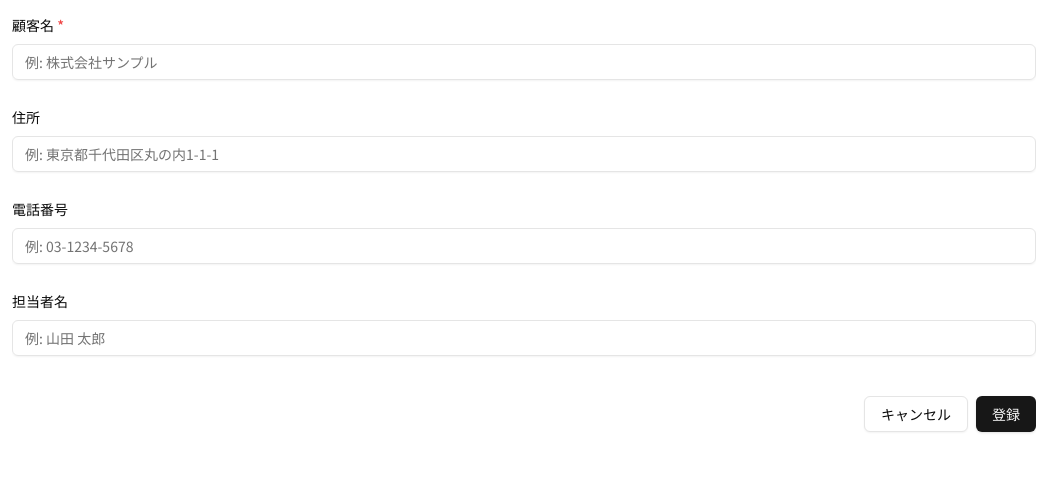
Test case: CustomerForm › validation › should show error for invalid phone format
The image size is (1048, 477).
Step 1. Type "テスト会社" into the field labelled "顧客名 *" → coordinates (524, 62), box top-left (12, 44), bottom-right (1036, 80)
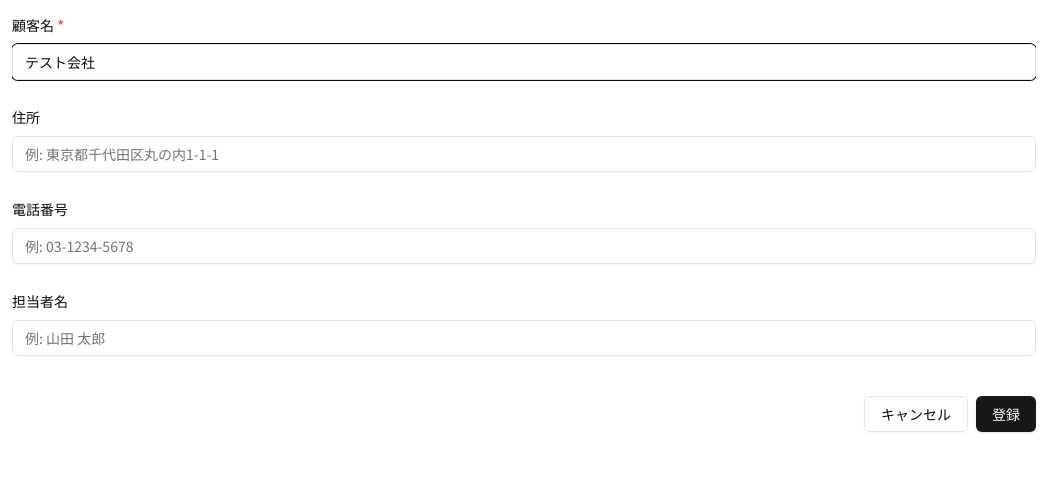
Step 2. Type "invalid-phone" into the field labelled "電話番号" → coordinates (524, 246), box top-left (12, 228), bottom-right (1036, 264)
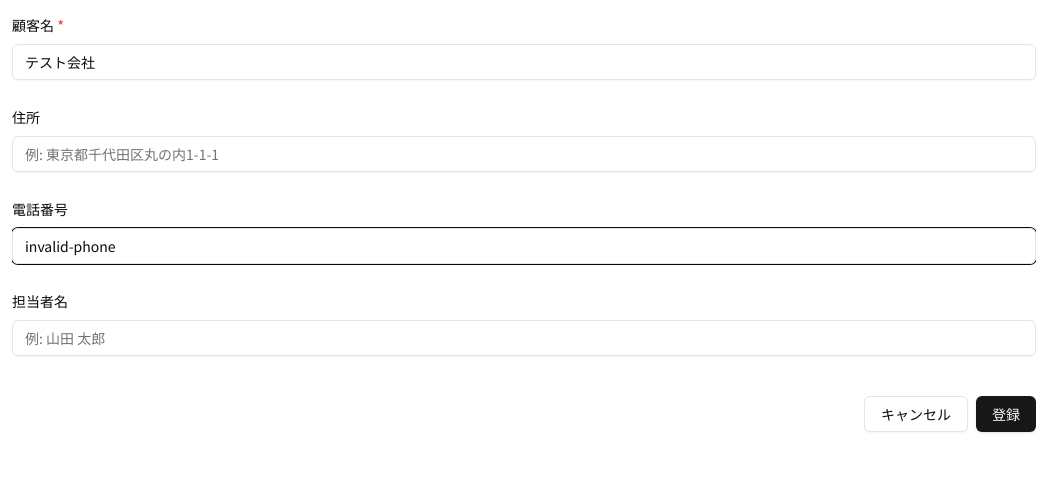
Step 3. Click the button "登録" → coordinates (1006, 414), box top-left (976, 396), bottom-right (1036, 432)
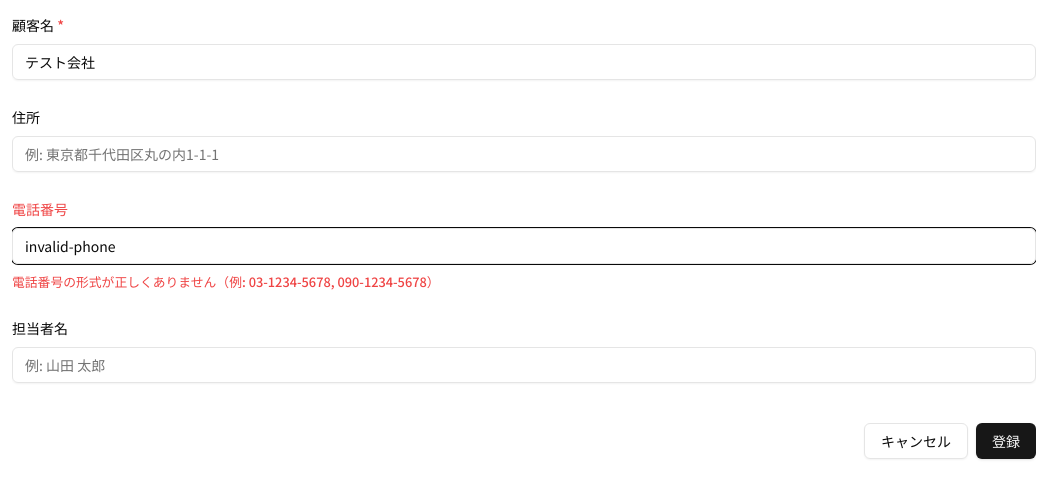
Expected: the text "電話番号の形式が正しくありません（例: 03-1234-5678, 090-1234-5678）" is shown, top-left (12, 272), bottom-right (440, 291)
